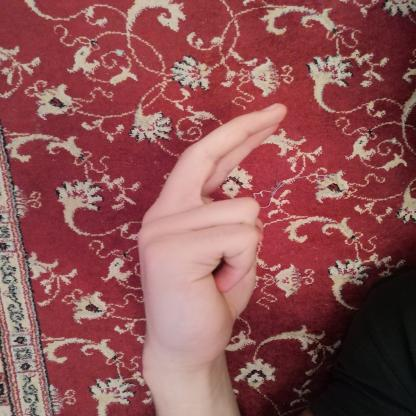ZAY: (126, 95, 302, 379)
